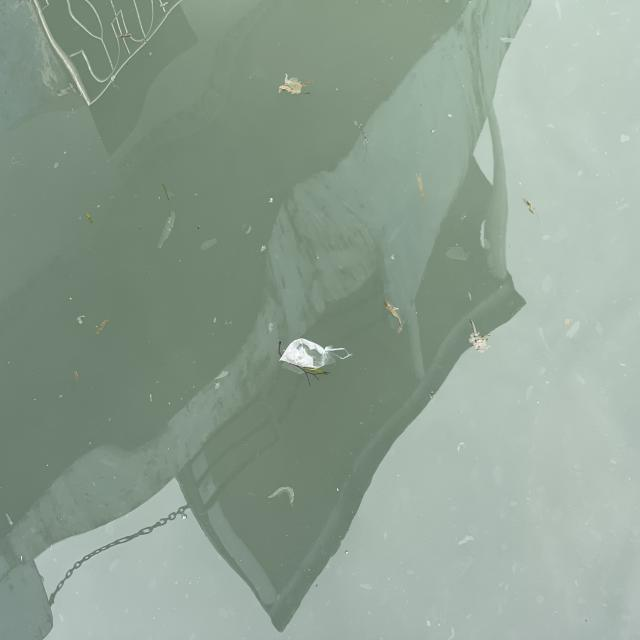Kantong Plastik: (280, 333, 349, 384)
